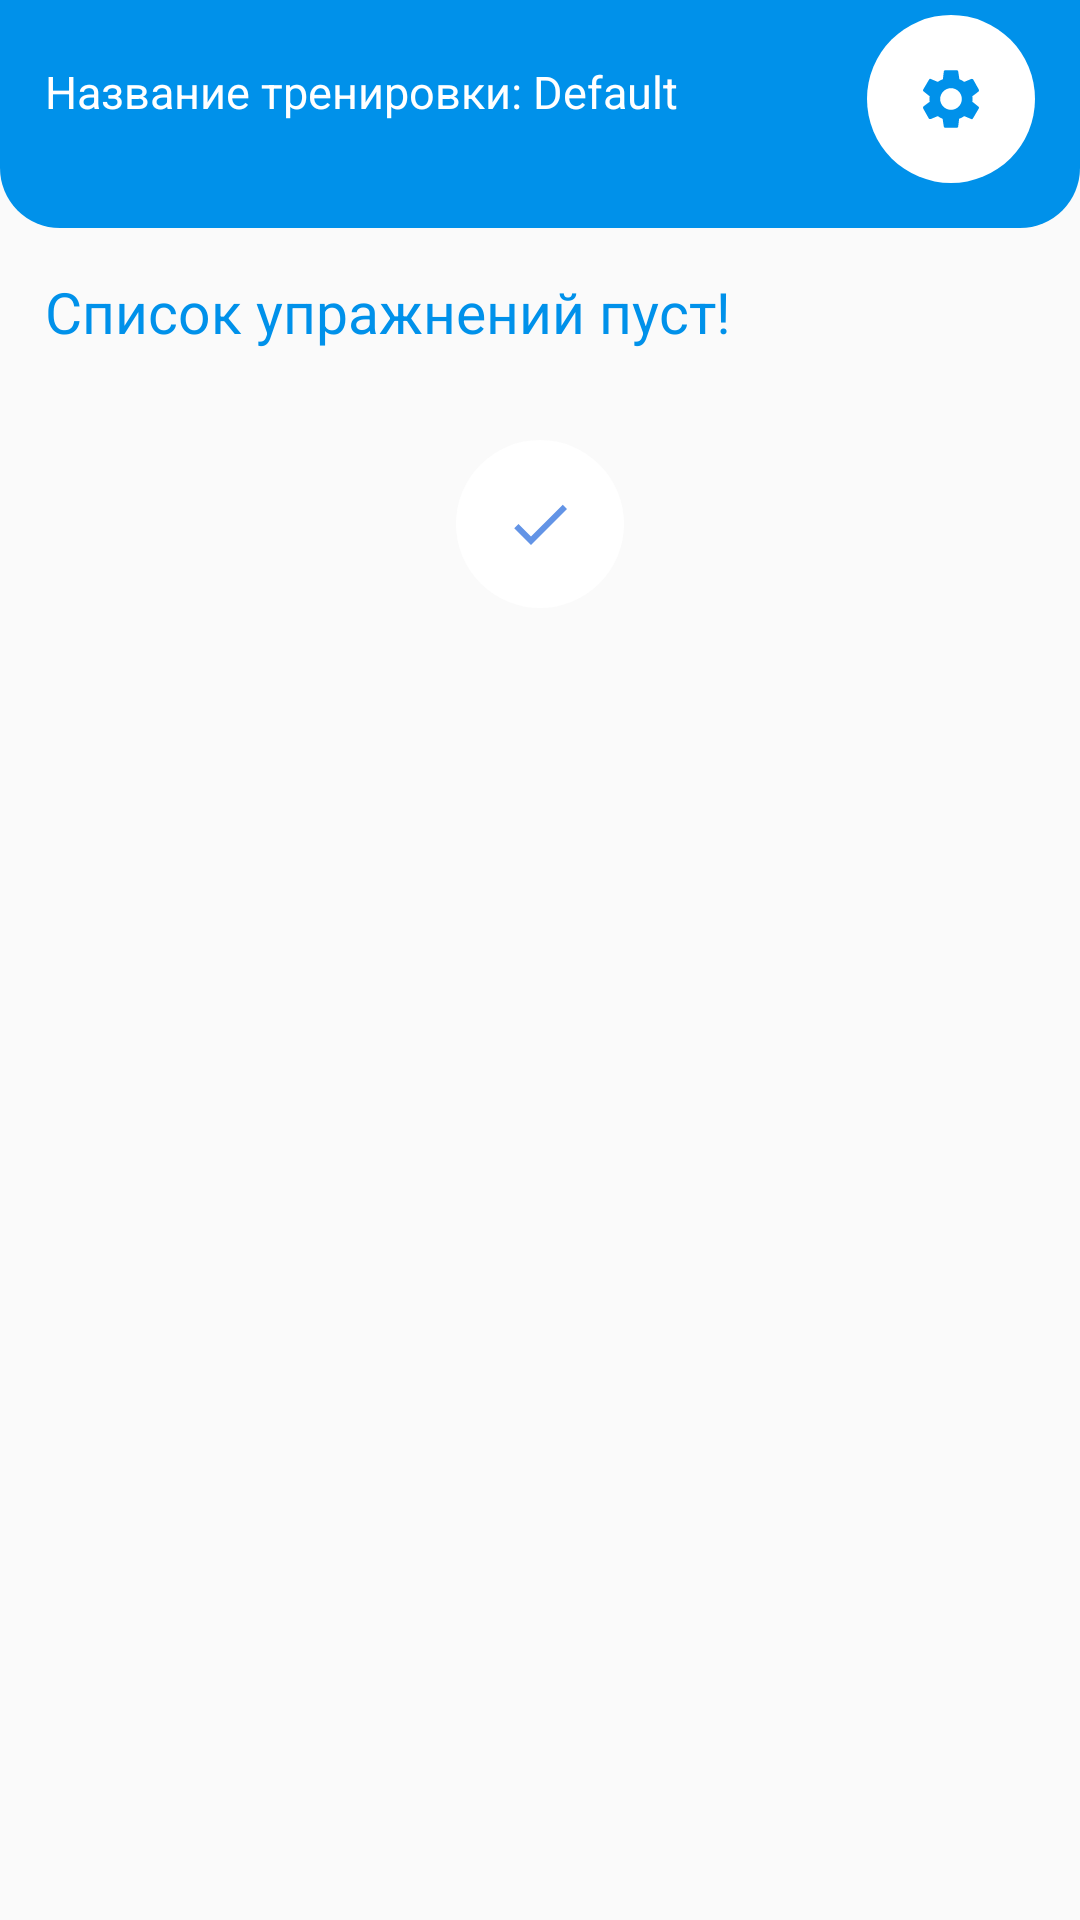

Where to tap for icons on this 1080w x 1920h app screen, as [x,y]:
check: [540,525]
settings change: [951,99]
